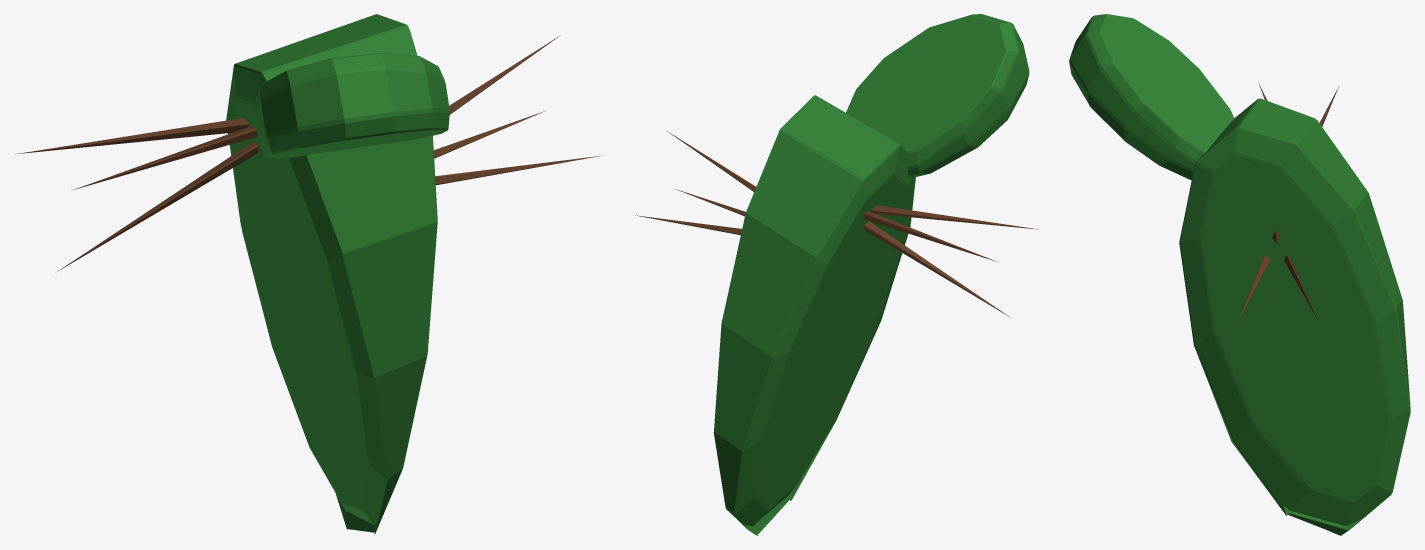
The model's file is cactus4.fbx.
The picture shows the model from 3 angles, left to right: view 1: azimuth 30°, elevation 25°; view 2: azimuth 150°, elevation 25°; view 3: azimuth 270°, elevation 25°; orthographic projection. The views are drawn at different scales.
Parts seen in each view (by area): view 1: small cactus 2; view 2: small cactus 2; view 3: small cactus 2.
Boxes of the visible parts, <box> form: small cactus 2: <box>15,14,601,534</box>; small cactus 2: <box>635,14,1038,535</box>; small cactus 2: <box>1069,14,1410,535</box>.
Bounding box in the file's own units: 102 × 119 × 80.05.
